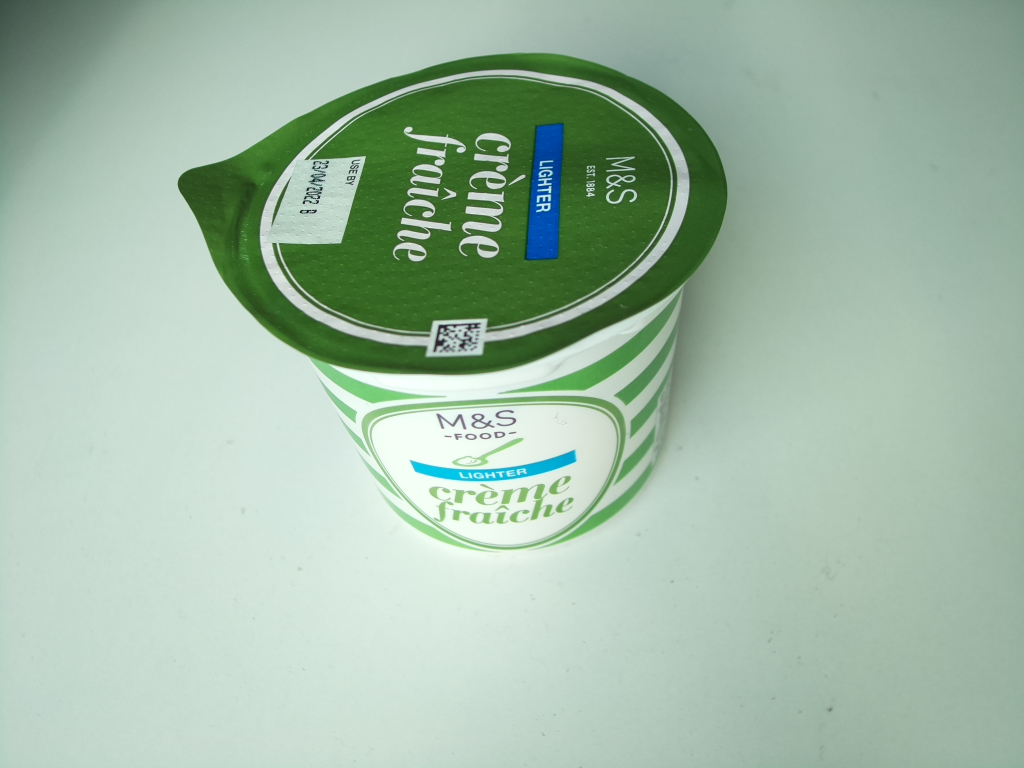cream: (177, 52, 729, 554)
